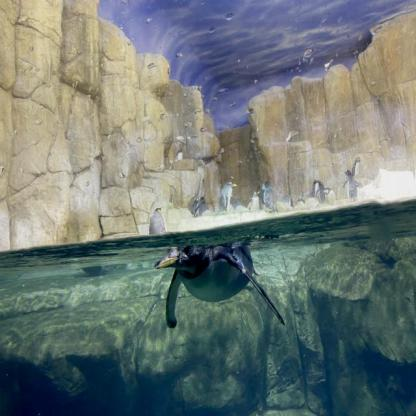penguin: (154, 241, 285, 328), (216, 178, 238, 218), (261, 179, 278, 217), (149, 206, 168, 235), (342, 168, 358, 198), (193, 195, 209, 222), (246, 187, 260, 215), (189, 195, 200, 219), (351, 156, 362, 178), (315, 182, 325, 204), (311, 178, 321, 200), (296, 196, 306, 209), (288, 194, 294, 210)
